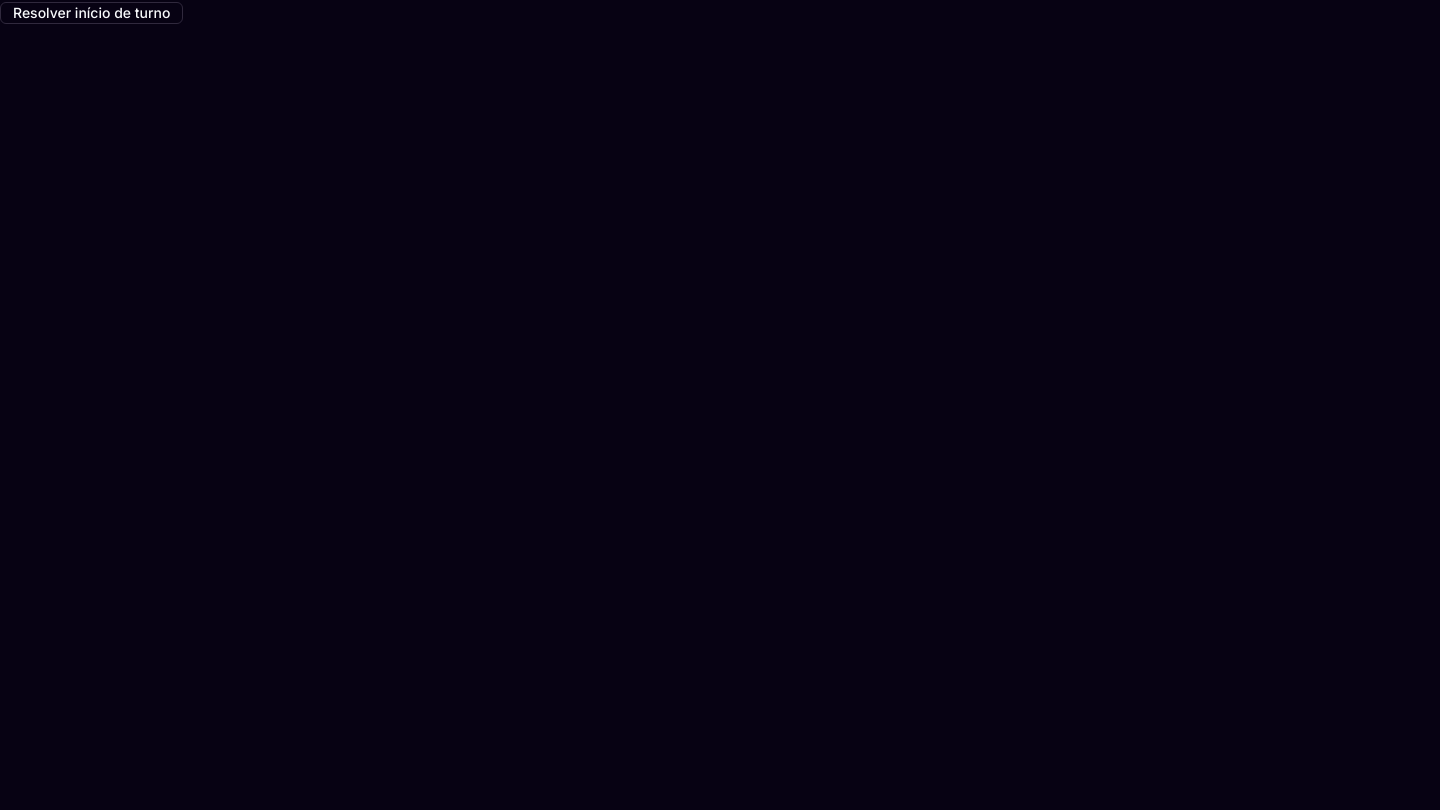
Test: Confirmação de início de turno › não oferece repetir um pedido rejeitado definitivamente pelo turno
Click the button "Resolver início de turno" at x=92, y=13, box [0, 2, 183, 24]
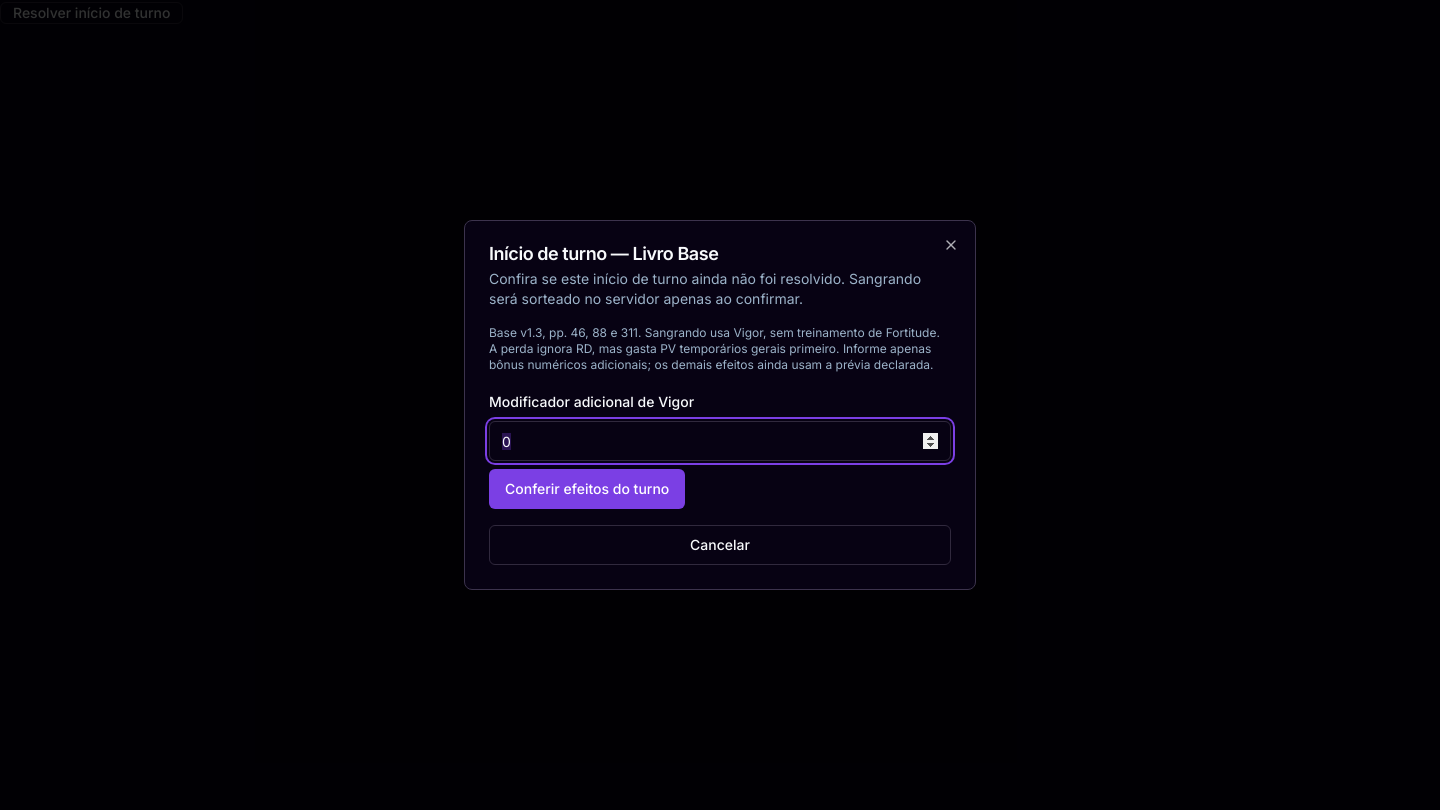
Click the button "Conferir efeitos do turno" at x=587, y=489, box [489, 469, 685, 509]
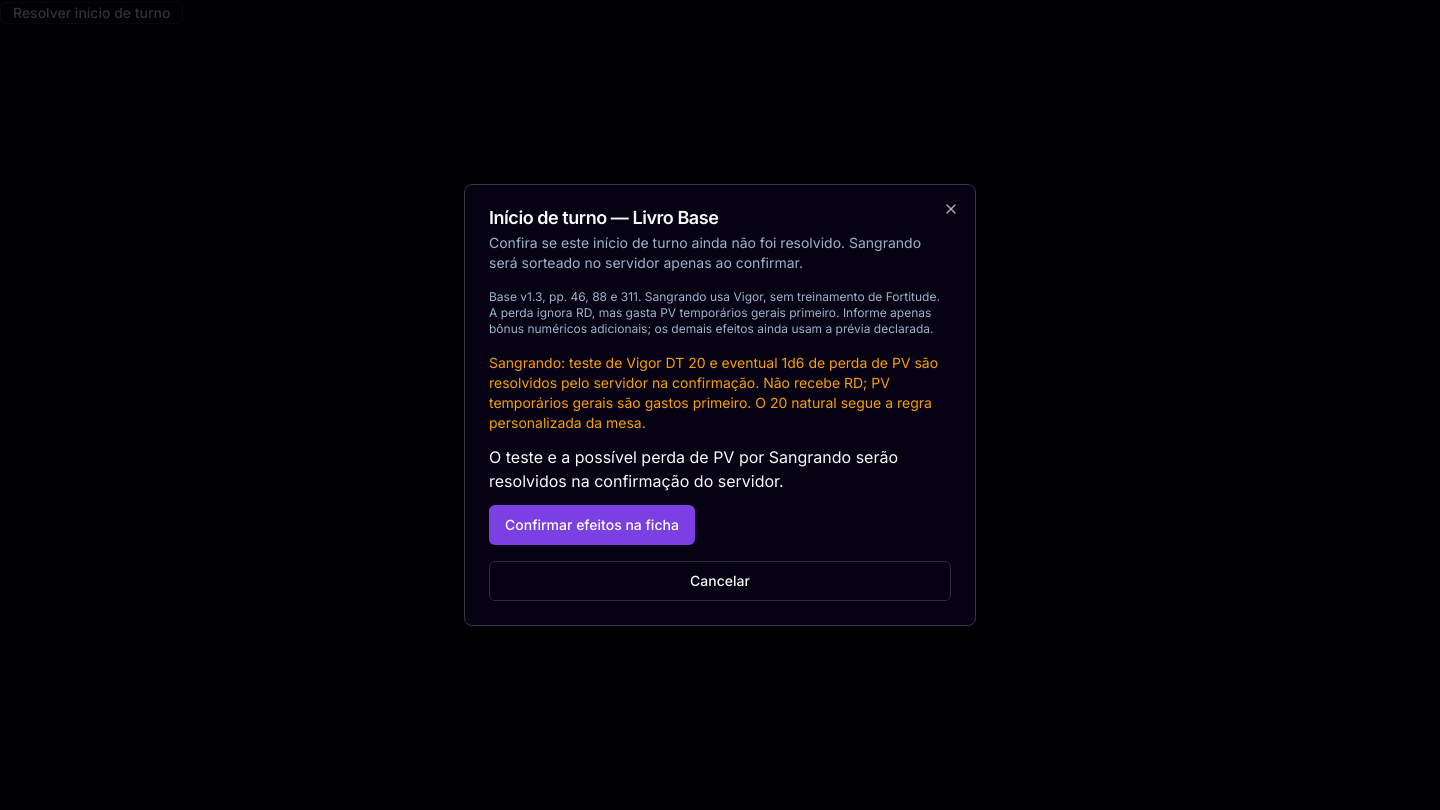
Expected: the text "possível perda de PV por Sangrando" is shown, [489, 447, 898, 491]
Click the button "Confirmar efeitos na ficha" at x=592, y=525, box [489, 505, 695, 545]
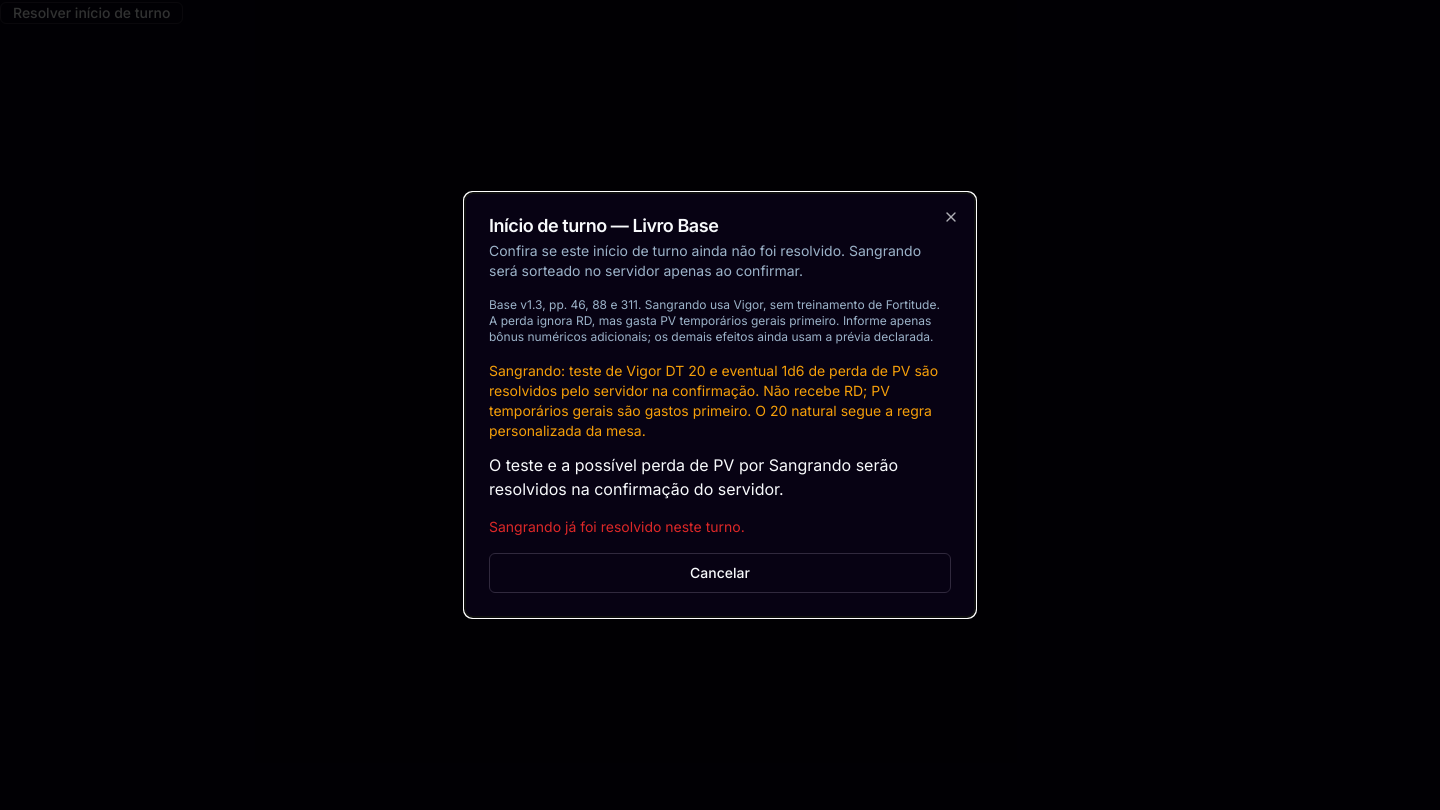
Expected: the message shows "já foi resolvido neste turno", [489, 518, 745, 535]
